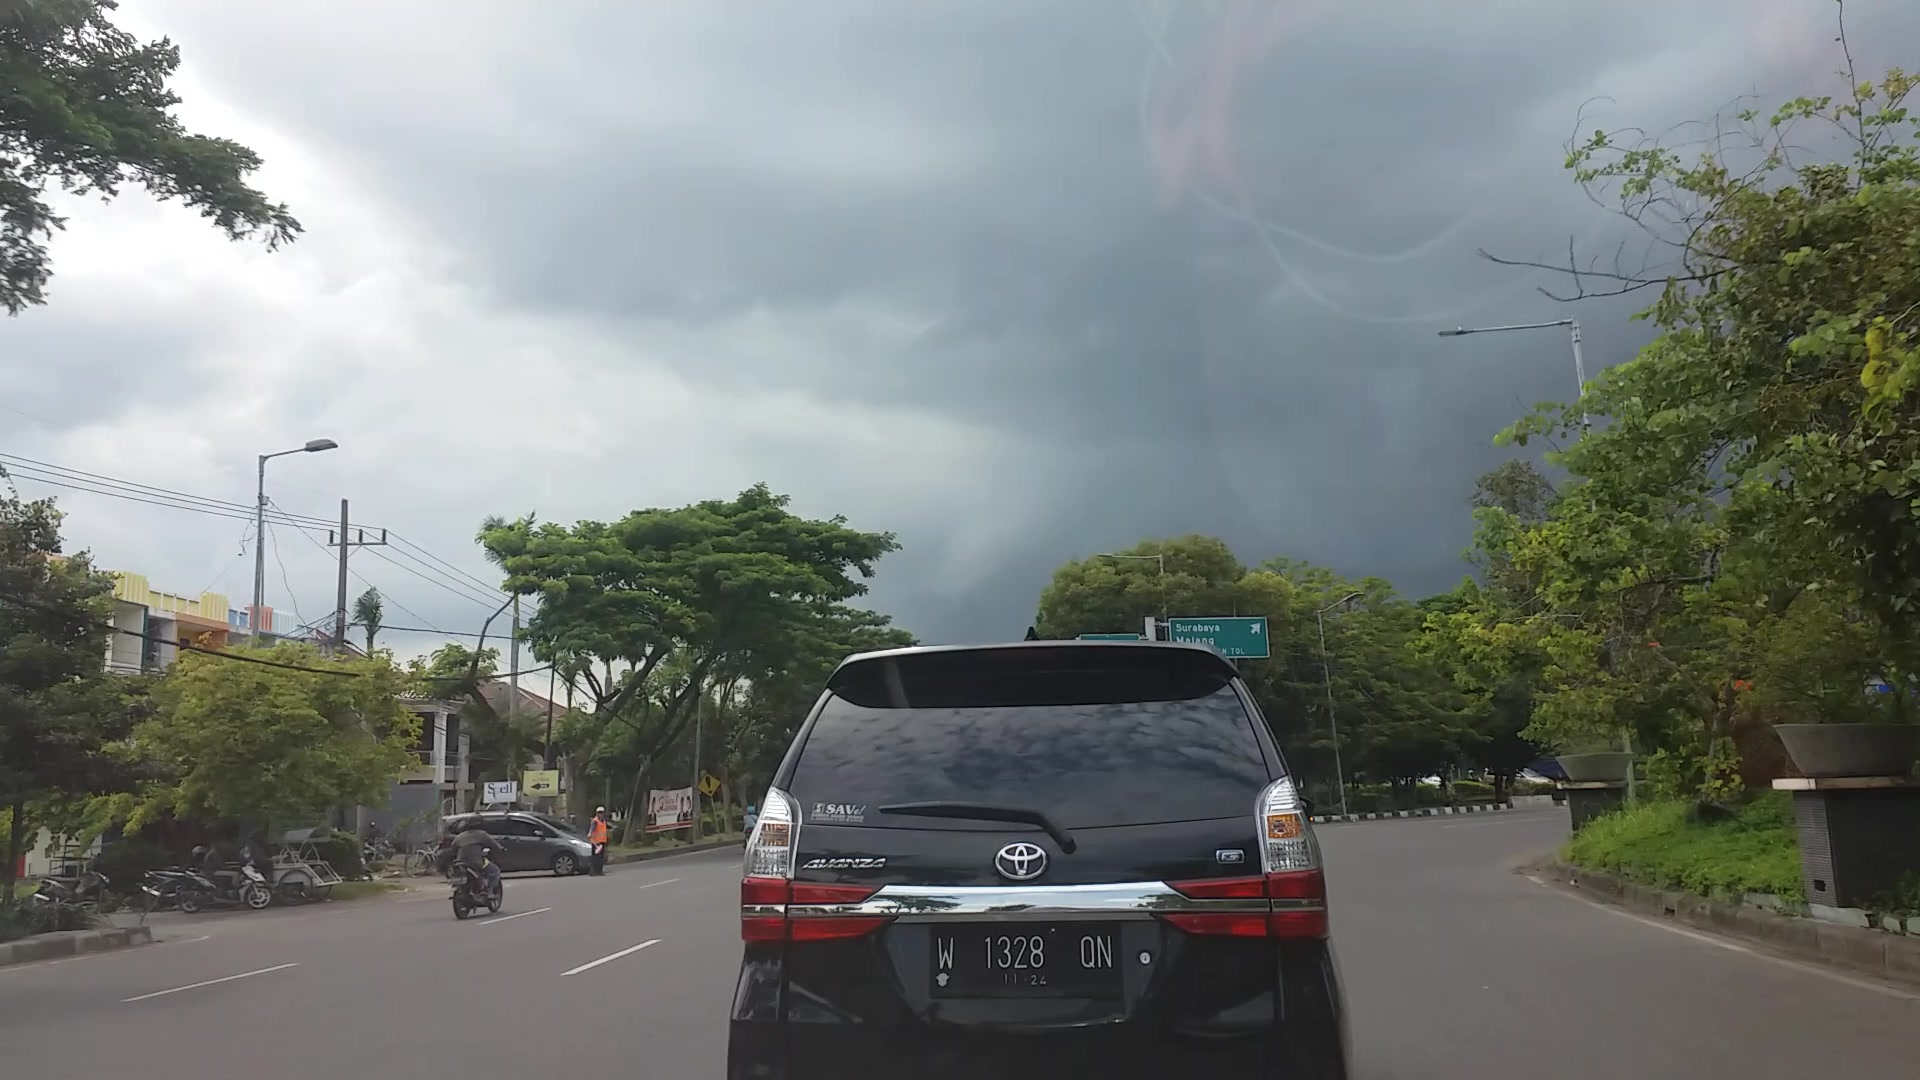plate_positive: (931, 924, 1121, 1000)
